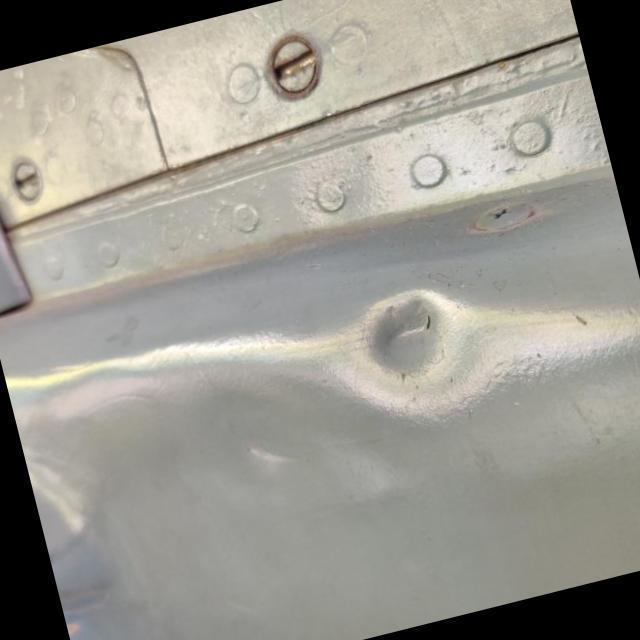dent: (336, 284, 482, 400), (235, 428, 315, 490)
